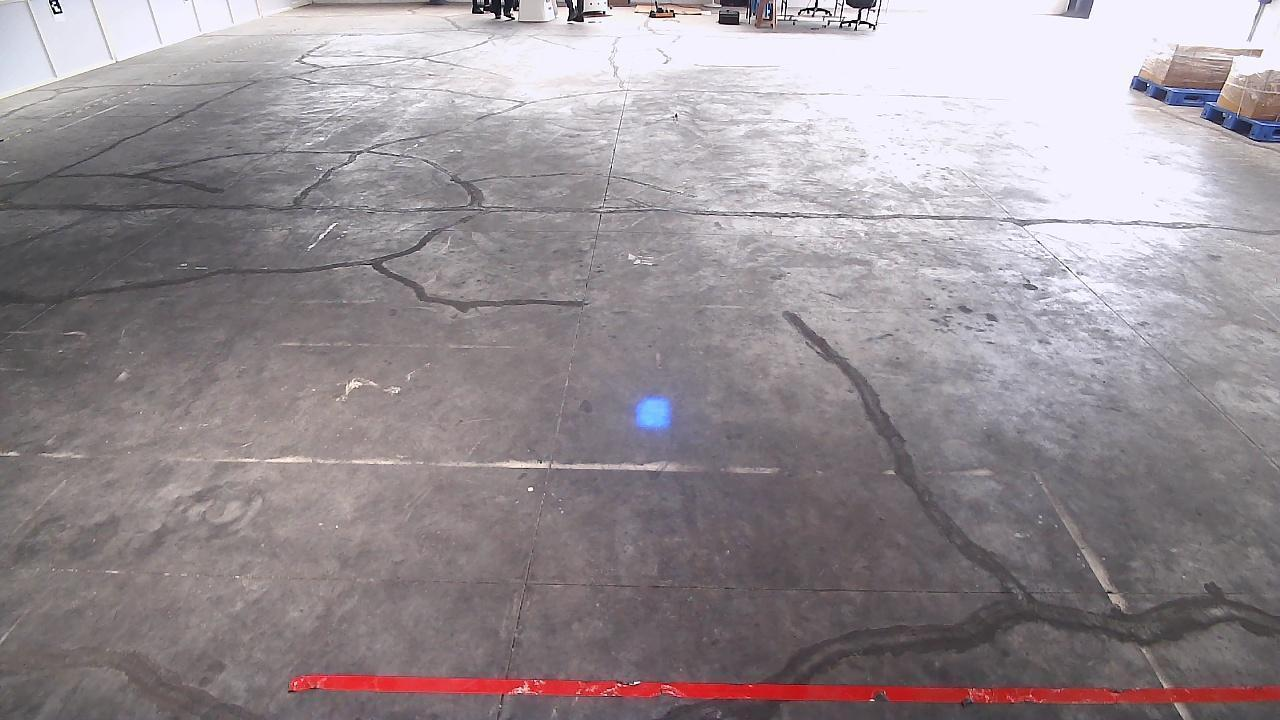red_line: (301, 662, 1277, 710)
